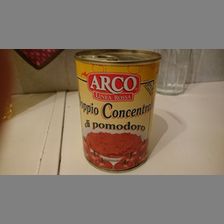tomato_sauce: (73, 50, 163, 172)
